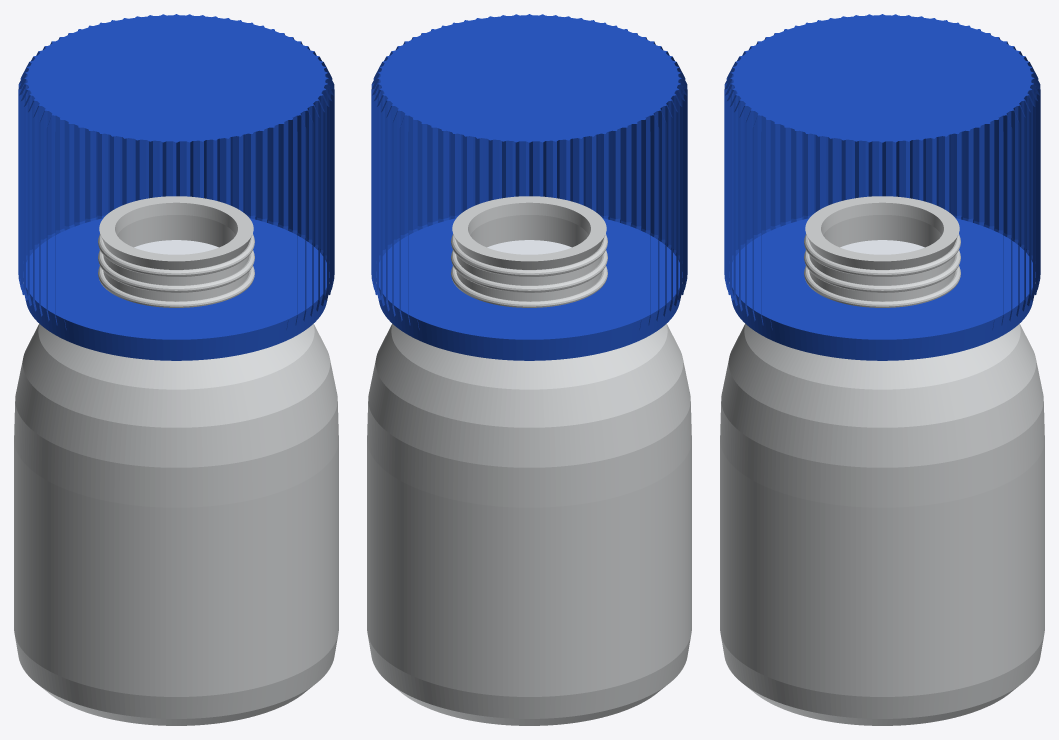
The model's file is duran-gl45-100ml.glb.
3 renders of one model, left to right at view 1: azimuth 30°, elevation 25°; view 2: azimuth 150°, elevation 25°; view 3: azimuth 270°, elevation 25°, orthographic.
Parts seen in each view (by area): view 1: BottleGlass, CapBluePP, CapTamperRing, ThreadMiddle, ThreadUpper, ThreadLower, PouringRing; view 2: BottleGlass, CapBluePP, CapTamperRing, ThreadMiddle, ThreadUpper, ThreadLower, PouringRing; view 3: BottleGlass, CapBluePP, CapTamperRing, ThreadMiddle, ThreadUpper, ThreadLower, PouringRing.
Part boxes in pixels (x1,y1,x2,y2): BottleGlass: [14, 196, 338, 725]; CapBluePP: [18, 14, 334, 329]; CapTamperRing: [23, 218, 329, 360]; ThreadMiddle: [98, 250, 254, 292]; ThreadUpper: [98, 234, 254, 276]; ThreadLower: [98, 266, 254, 307]; PouringRing: [134, 240, 218, 254]; BottleGlass: [367, 196, 691, 725]; CapBluePP: [371, 14, 687, 329]; CapTamperRing: [376, 218, 682, 360]; ThreadMiddle: [451, 250, 607, 292]; ThreadUpper: [451, 234, 607, 276]; ThreadLower: [451, 266, 607, 307]; PouringRing: [487, 240, 571, 254]; BottleGlass: [720, 196, 1044, 725]; CapBluePP: [724, 14, 1040, 329]; CapTamperRing: [729, 218, 1035, 360]; ThreadMiddle: [804, 250, 960, 292]; ThreadUpper: [804, 234, 960, 276]; ThreadLower: [804, 266, 960, 307]; PouringRing: [840, 240, 924, 254].
Size of the model in its own units: 0.056 by 0.1126 by 0.056.
